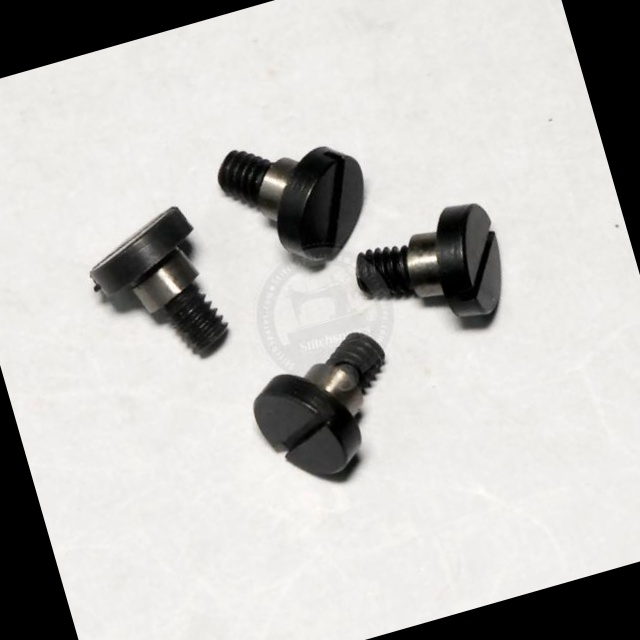duz: (263, 139, 386, 272), (249, 378, 364, 497), (433, 198, 519, 326)
